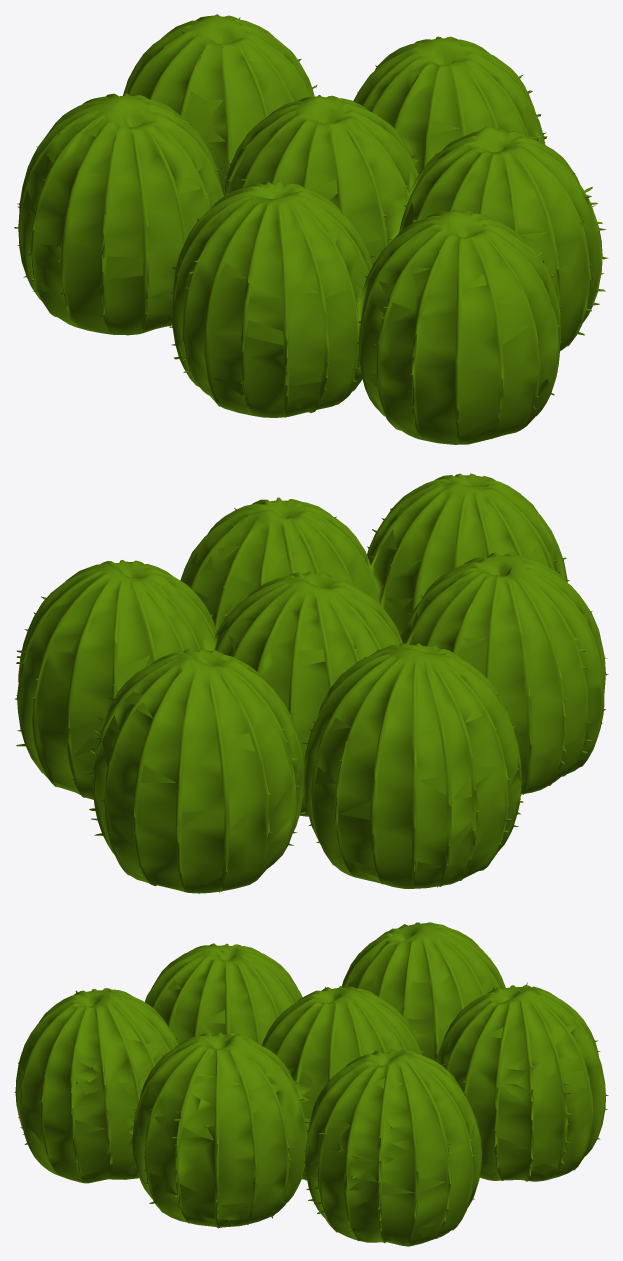
The model's file is huevos.fbx.
3 renders of one model, top to bottom at view 1: azimuth 30°, elevation 25°; view 2: azimuth 150°, elevation 25°; view 3: azimuth 270°, elevation 25°, orthographic. The views are drawn at different scales.
Visible parts, largest first — view 1: tripo_node_2b0ae251; view 2: tripo_node_2b0ae251; view 3: tripo_node_2b0ae251.
Boxes of the visible parts, x1,y1,x2,y2 form: tripo_node_2b0ae251: (14, 14, 608, 444); tripo_node_2b0ae251: (15, 473, 608, 893); tripo_node_2b0ae251: (14, 922, 608, 1246).
Size of the model in its own units: 1.14 by 0.469 by 1.43.
1 material, 1 textured.
